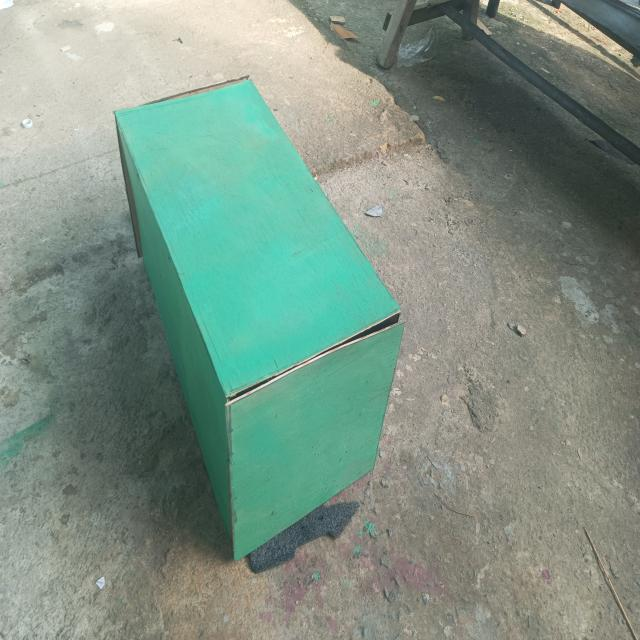green_box: (92, 51, 440, 606)
